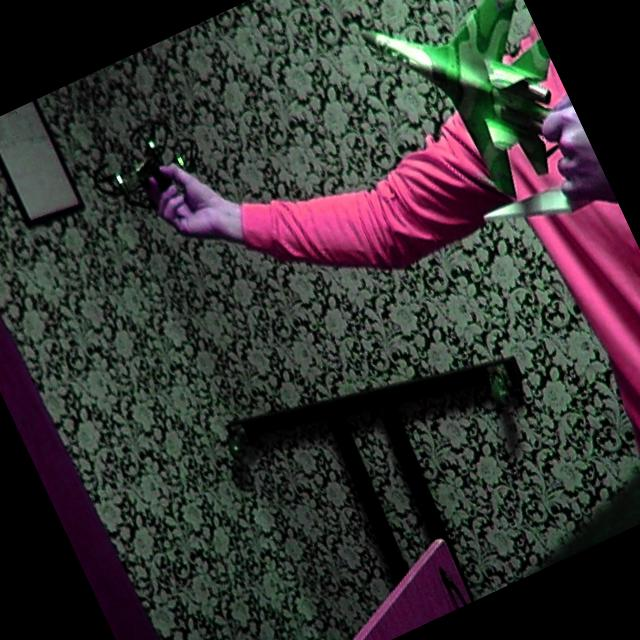drone: (65, 93, 224, 233)
